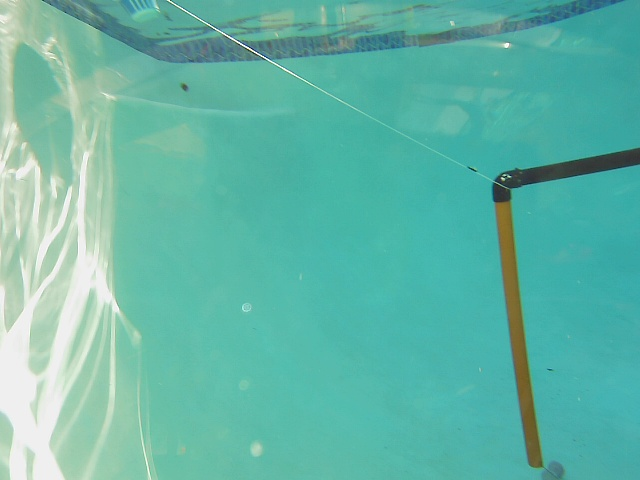Gate: (483, 148, 640, 470)
